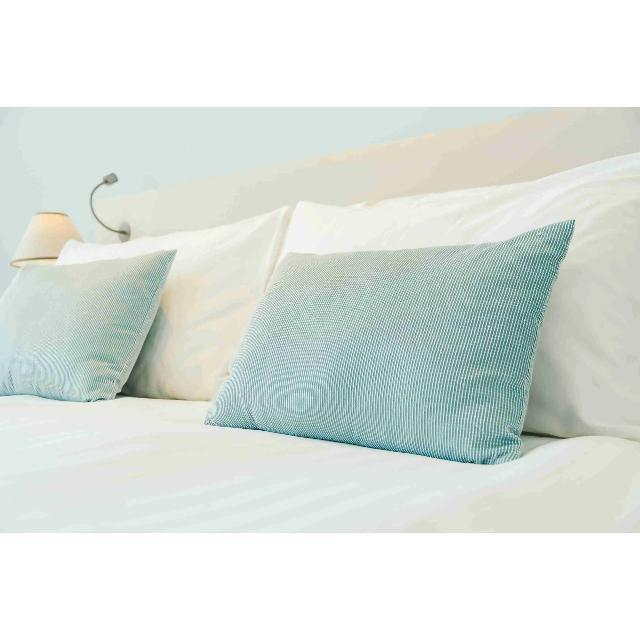pillow: (281, 152, 640, 444), (203, 214, 575, 467), (57, 203, 293, 401), (0, 248, 178, 402)
